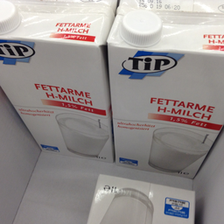milk: (108, 1, 224, 178), (1, 1, 117, 164)
